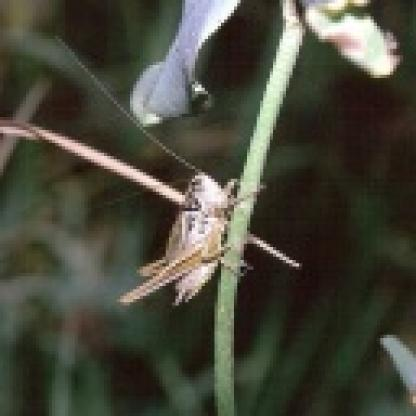grasshopper: (130, 163, 250, 308)
